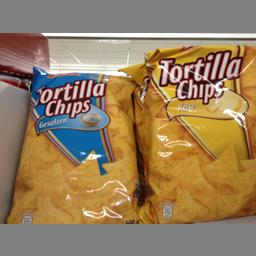chips: (135, 42, 255, 220), (10, 66, 140, 220)
